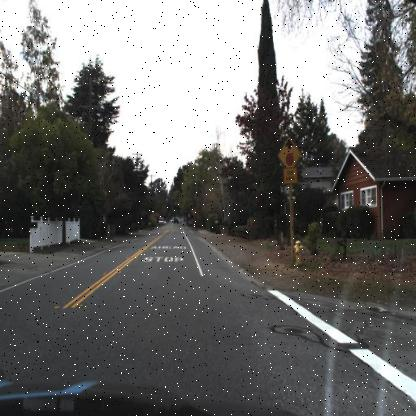car: (189, 220, 194, 228), (163, 219, 167, 224), (170, 219, 173, 223)
truck: (173, 216, 182, 224), (159, 217, 164, 226)
